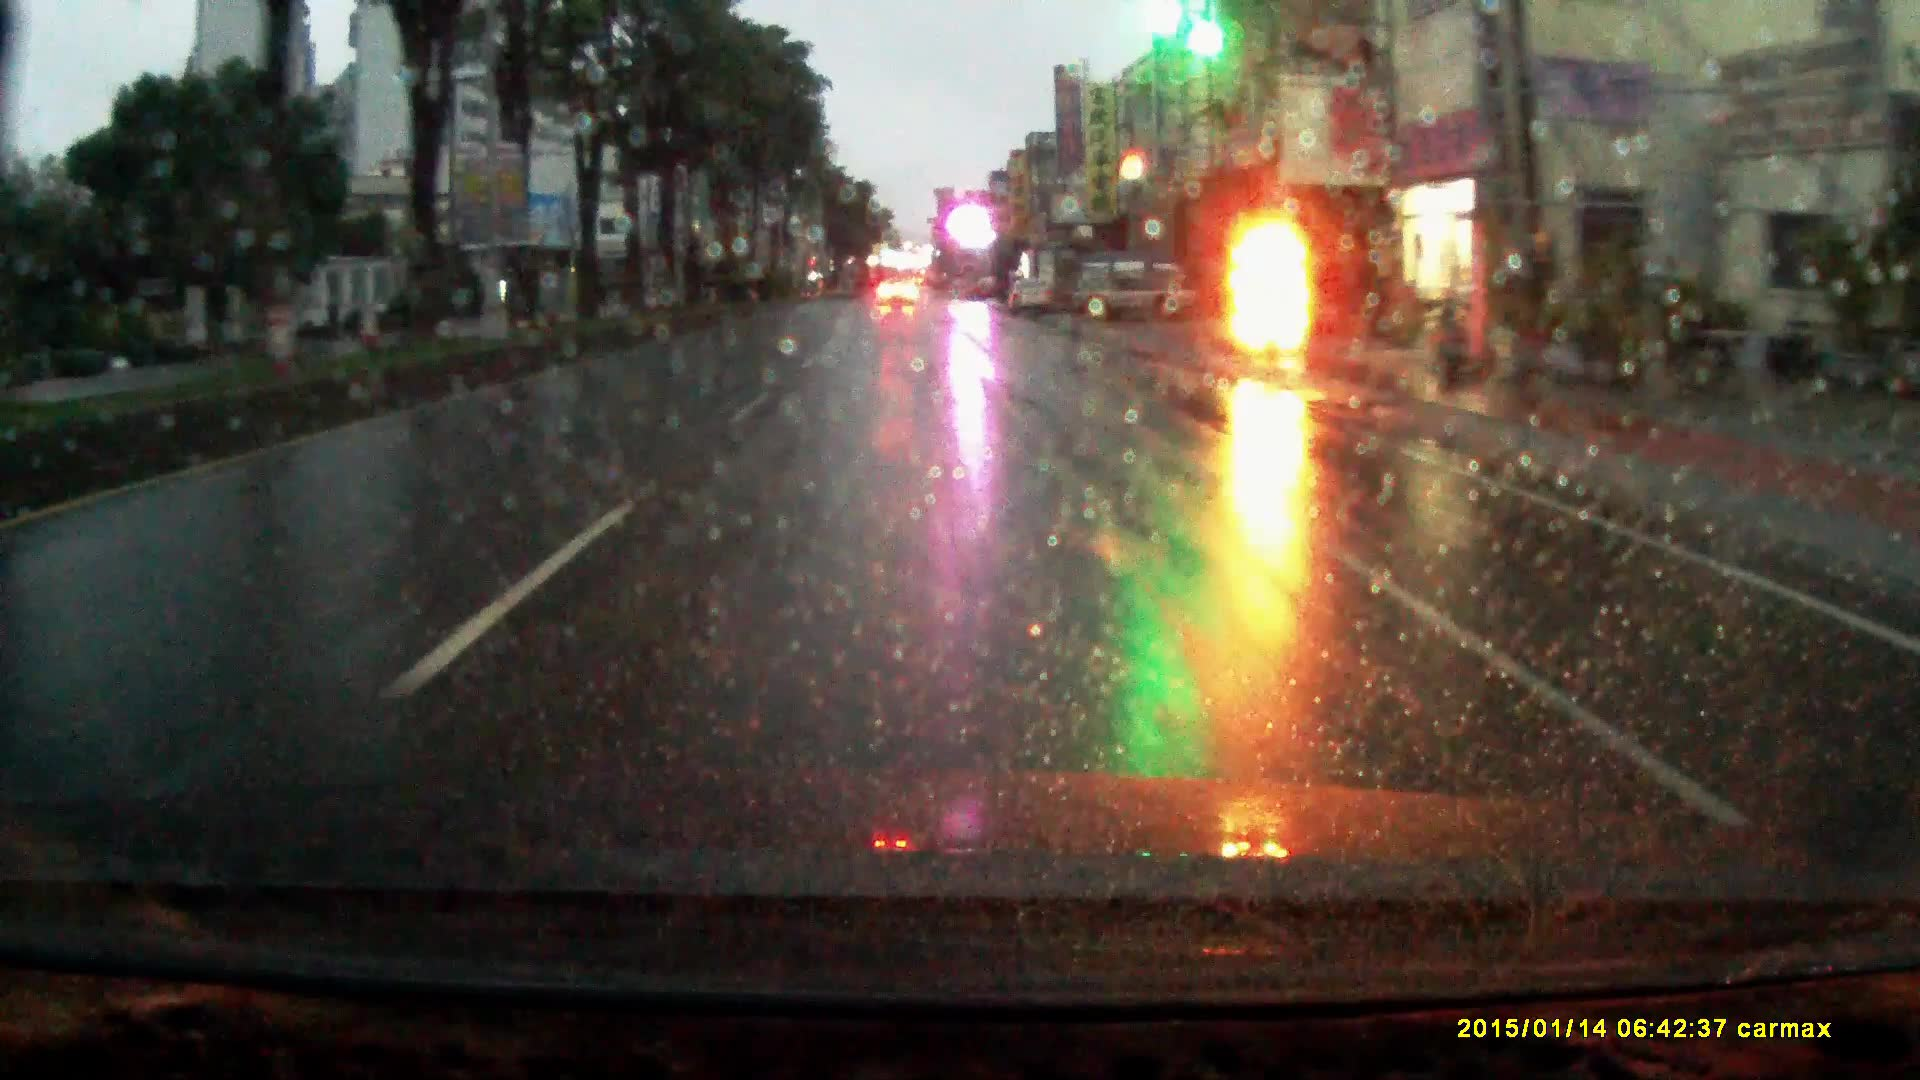vehicle: (1065, 251, 1207, 324), (1017, 245, 1083, 322), (1006, 278, 1058, 319), (878, 281, 920, 314)
